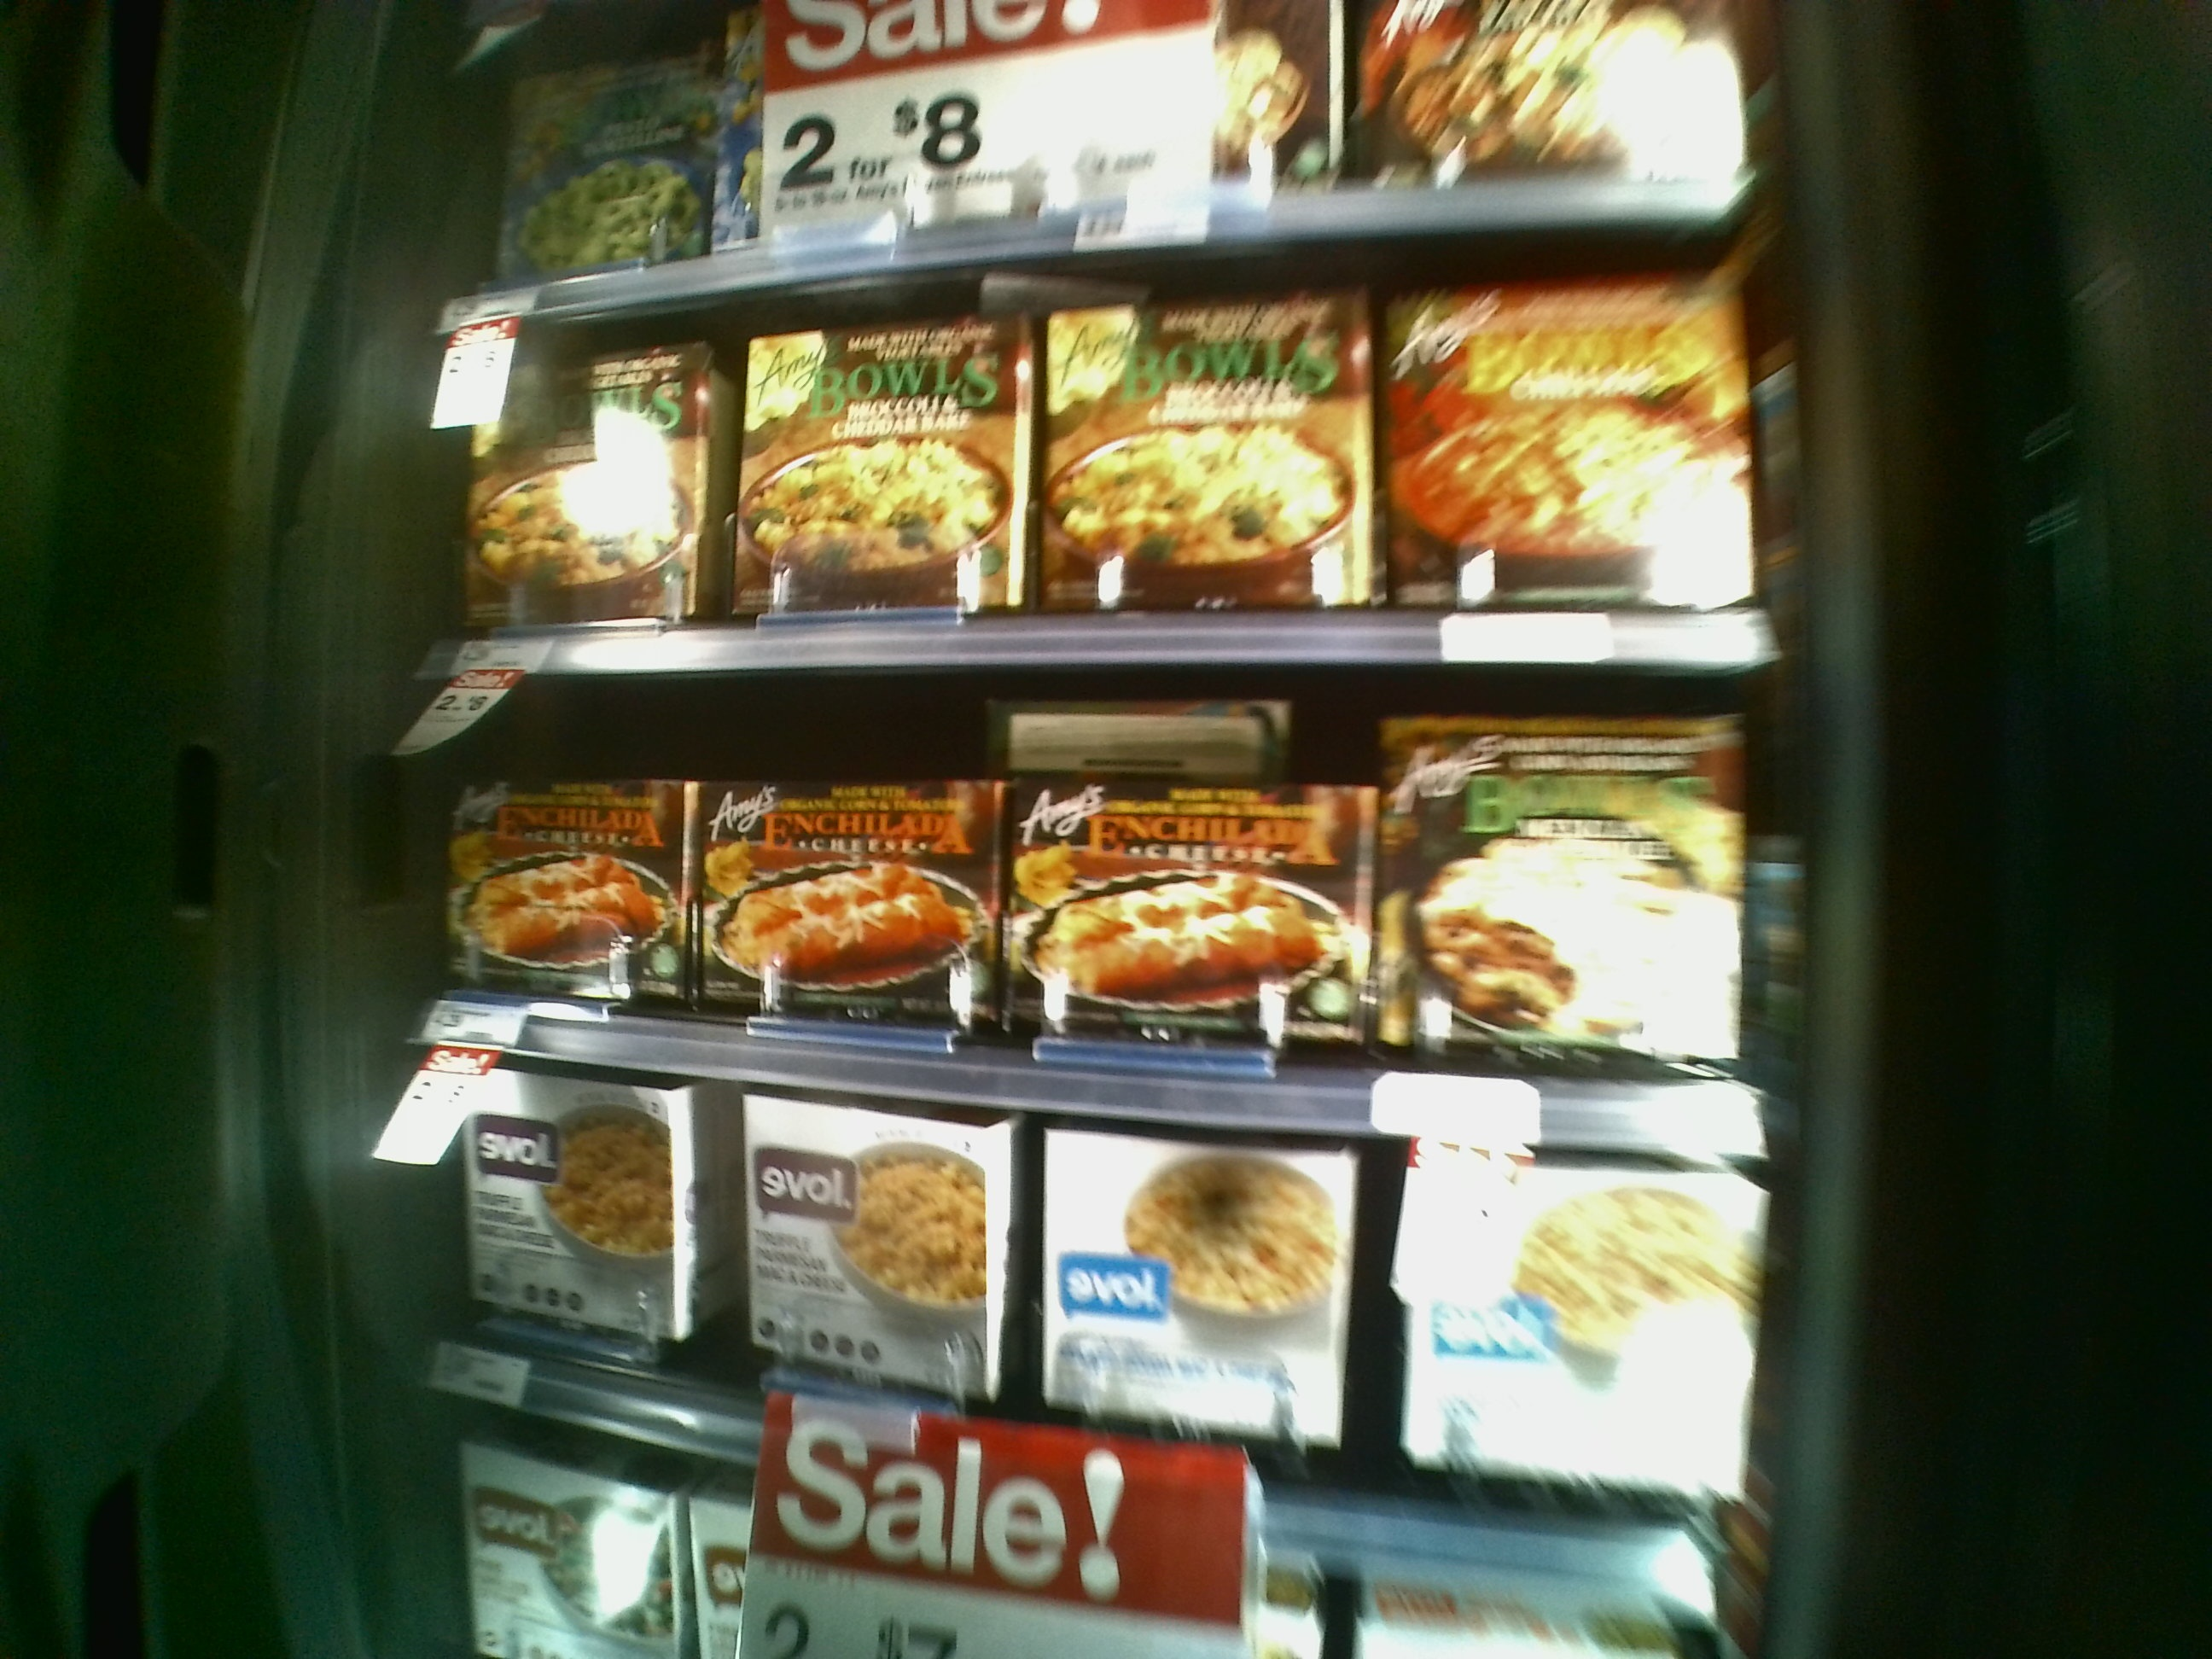shelf: (437, 660, 1796, 1086), (441, 265, 1785, 657), (427, 1101, 1775, 1483)
